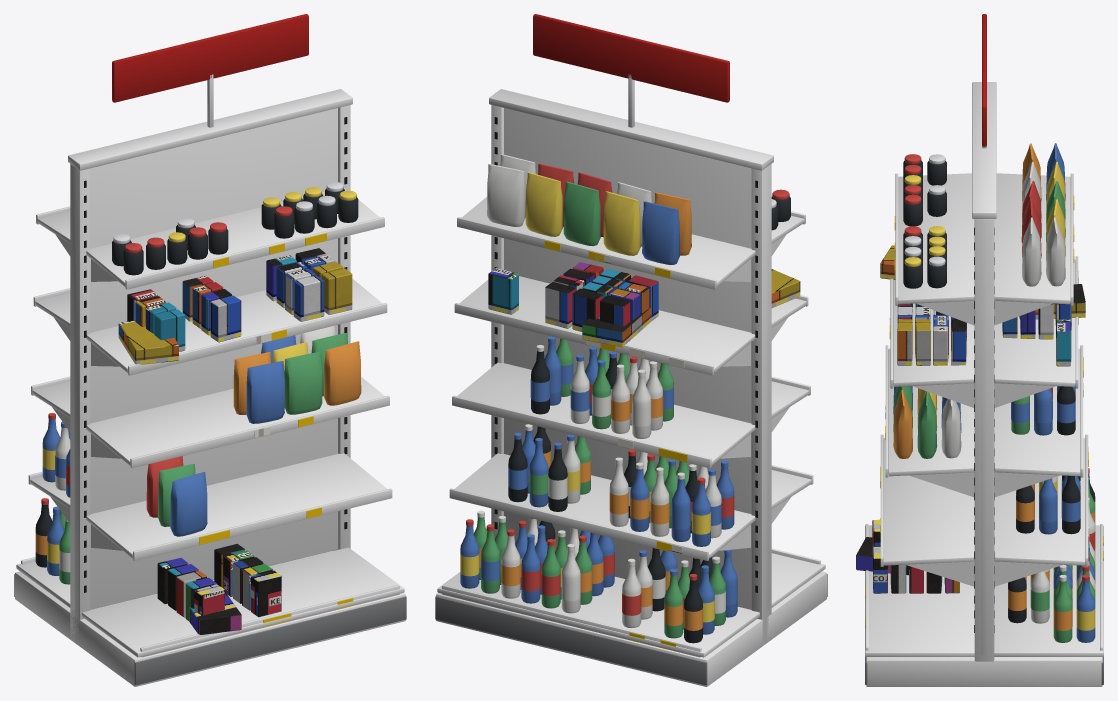
Rendered from ShelfGondola_Looted.fbx.
3 renders of one model, left to right at view 1: azimuth 30°, elevation 25°; view 2: azimuth 150°, elevation 25°; view 3: azimuth 270°, elevation 25°, orthographic.
Visible parts, largest first — view 1: ShelfGondola_Looted; view 2: ShelfGondola_Looted; view 3: ShelfGondola_Looted.
Part boxes in pixels (x1,y1,x2,y2): ShelfGondola_Looted: [14, 14, 406, 686]; ShelfGondola_Looted: [435, 14, 827, 686]; ShelfGondola_Looted: [856, 14, 1103, 686].
Bounding box in the file's own units: 1.26 × 2.52 × 1.01.
